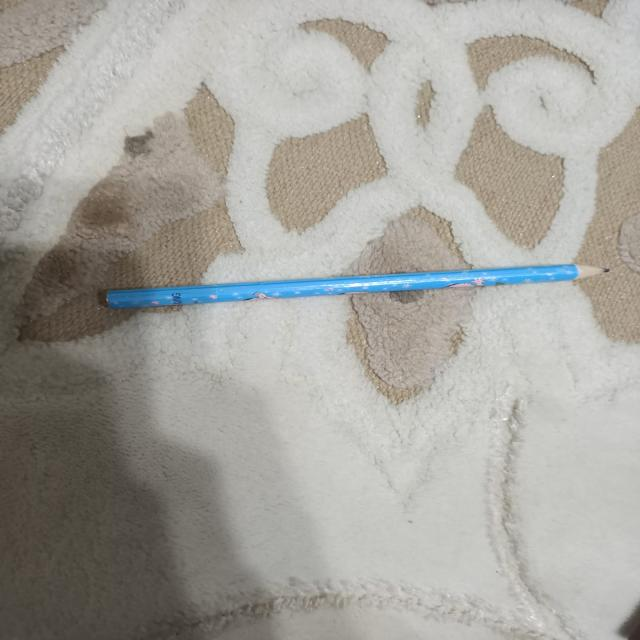pencil: (99, 265, 610, 308)
